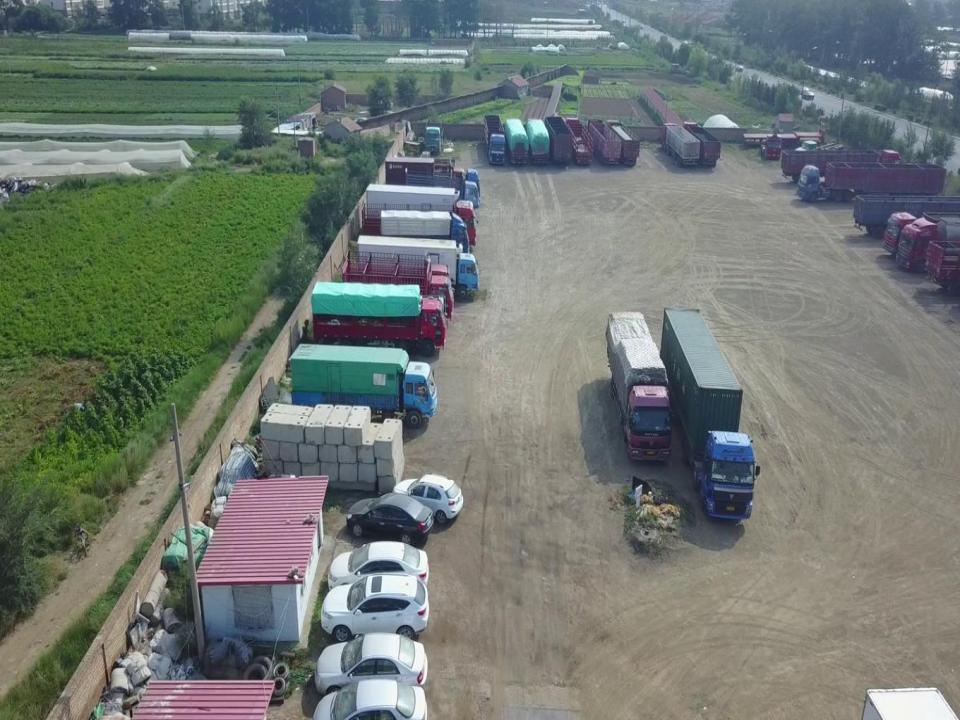car: (319, 573, 429, 644), (313, 634, 427, 696), (327, 541, 428, 596), (311, 679, 428, 720), (346, 493, 434, 546), (391, 473, 463, 525), (801, 90, 815, 101), (797, 87, 810, 94), (736, 64, 744, 72)
truck: (657, 306, 760, 523), (292, 342, 438, 428), (604, 312, 673, 463), (311, 282, 446, 358), (356, 234, 478, 302), (341, 249, 453, 323), (362, 181, 476, 252), (796, 162, 948, 203), (384, 155, 480, 210), (853, 193, 960, 240), (378, 208, 470, 260), (780, 148, 901, 182), (896, 212, 960, 271), (882, 211, 960, 259), (924, 239, 960, 295), (659, 122, 700, 168), (682, 121, 720, 168), (586, 116, 621, 166), (605, 120, 640, 168), (565, 116, 593, 166), (545, 116, 574, 164), (484, 114, 506, 166), (506, 118, 530, 164), (794, 140, 845, 161), (527, 118, 550, 164), (760, 133, 782, 161), (426, 118, 443, 154)
